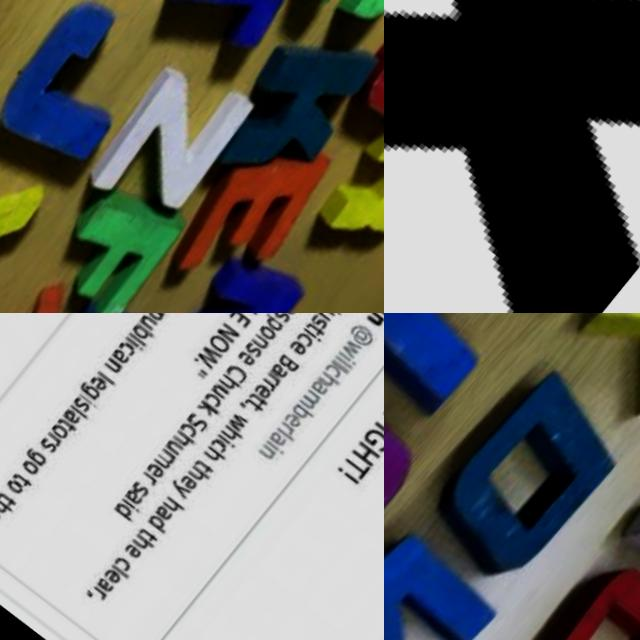A: (272, 363, 296, 385), (160, 504, 184, 526), (66, 407, 90, 428), (102, 576, 125, 596), (129, 489, 152, 509), (315, 381, 336, 401), (114, 349, 136, 368), (275, 433, 295, 450)
B: (280, 354, 306, 377), (134, 323, 160, 346), (296, 406, 319, 426)
C: (228, 364, 256, 390), (184, 423, 206, 443), (120, 556, 141, 576), (327, 364, 349, 383), (207, 393, 229, 411), (215, 439, 236, 457), (300, 333, 320, 351), (122, 342, 142, 359)
D: (399, 356, 640, 616), (151, 513, 179, 538), (120, 503, 146, 526)
E: (142, 98, 368, 313), (239, 348, 264, 372), (256, 384, 280, 406), (184, 473, 208, 495), (92, 374, 116, 396), (129, 542, 153, 563), (231, 313, 257, 332), (291, 340, 314, 361), (151, 462, 174, 483), (109, 568, 132, 588), (288, 413, 310, 432), (0, 503, 11, 527), (280, 313, 303, 321)
F: (31, 171, 201, 313)
G: (82, 380, 108, 403), (366, 428, 384, 459), (30, 447, 55, 469)
H: (356, 443, 384, 472), (320, 372, 346, 395), (222, 375, 249, 397), (208, 446, 233, 469), (167, 498, 193, 520), (177, 432, 203, 454), (0, 497, 22, 520), (138, 535, 162, 556), (193, 466, 217, 487), (226, 427, 249, 447)
I: (305, 328, 327, 347), (271, 441, 293, 459), (341, 352, 362, 369), (128, 499, 149, 516), (84, 394, 105, 411), (222, 435, 243, 451), (128, 338, 149, 353), (378, 424, 384, 443), (377, 313, 384, 325)
J: (0, 0, 168, 194), (384, 313, 575, 427), (322, 313, 349, 319)
K: (199, 8, 384, 209), (201, 401, 225, 422)
L: (338, 357, 359, 374), (334, 361, 355, 377), (118, 565, 139, 581), (74, 405, 95, 421), (102, 372, 123, 388), (281, 429, 301, 445), (132, 335, 153, 350), (238, 313, 262, 324)
M: (159, 448, 185, 474), (302, 390, 328, 415)
N: (152, 228, 326, 313), (220, 324, 245, 347), (107, 358, 129, 376), (255, 335, 275, 353), (263, 447, 282, 464), (369, 313, 384, 332)
O: (488, 544, 640, 640), (210, 334, 238, 359), (10, 476, 34, 498), (54, 422, 77, 443), (261, 325, 283, 345), (26, 459, 48, 478)
P: (12, 275, 193, 313), (264, 314, 289, 337), (145, 313, 170, 324)
R: (301, 96, 384, 283), (146, 472, 167, 490), (264, 379, 284, 396), (51, 432, 70, 449), (97, 587, 116, 603), (270, 374, 288, 389), (284, 424, 301, 438)
S: (384, 350, 447, 639), (191, 414, 216, 435), (76, 396, 99, 415), (136, 482, 158, 501), (43, 437, 65, 456), (248, 344, 270, 362), (273, 313, 297, 329), (313, 316, 333, 334)
T: (133, 0, 337, 91), (345, 455, 378, 484), (17, 471, 42, 492), (307, 322, 331, 343), (144, 528, 168, 548), (2, 489, 26, 509), (61, 416, 84, 436), (199, 459, 222, 478), (247, 399, 270, 417), (253, 393, 274, 410)
U: (341, 14, 384, 161), (141, 314, 164, 334), (171, 440, 191, 458), (216, 386, 236, 403), (318, 313, 341, 326)
V: (384, 506, 528, 640)
W: (198, 345, 229, 373), (231, 412, 257, 436), (344, 341, 369, 363)
X: (384, 0, 640, 313), (0, 138, 62, 313)
Y: (174, 479, 199, 502)
Z: (66, 44, 268, 249)
